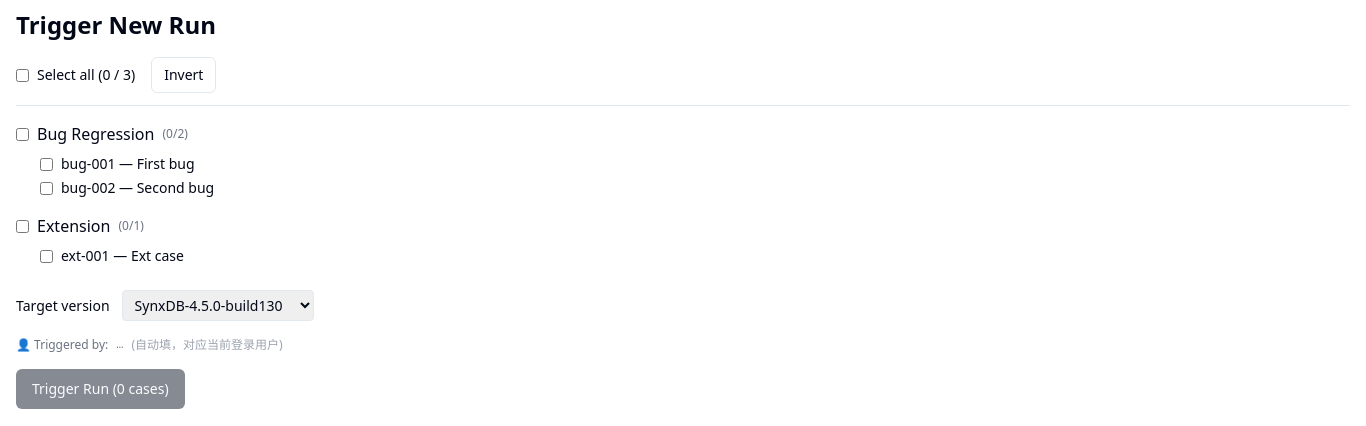
Test: RunNewPage › select-all-global selects all cases
Check: the checkbox with test id "case-checkbox-bug-001" is shown, box x1=40 y1=158 x2=53 y2=170
Click the checkbox with test id "select-all-global" at (22,75), box x1=16 y1=68 x2=29 y2=82
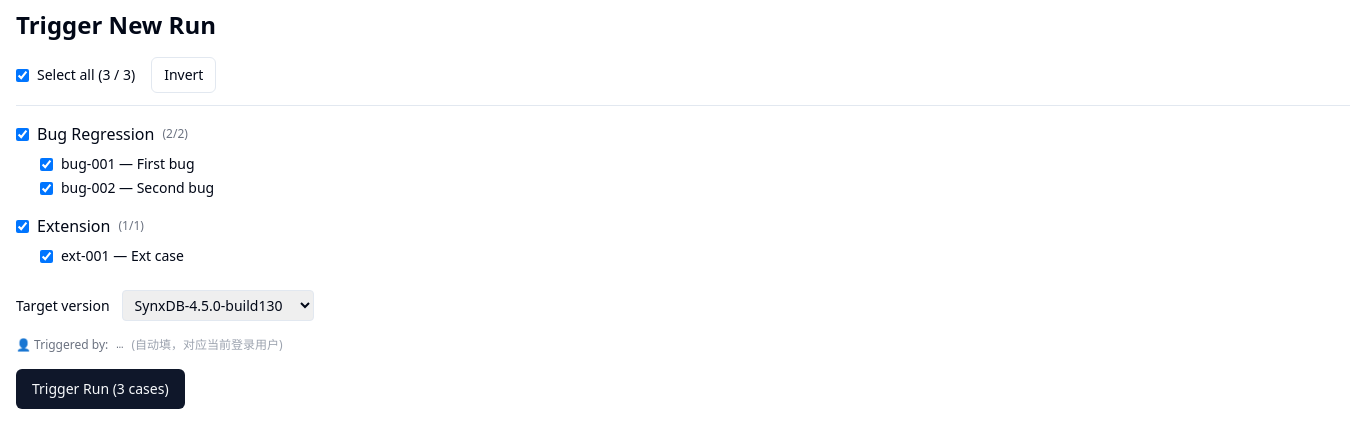
Check: the checkbox with test id "case-checkbox-bug-001" is checked, box x1=40 y1=158 x2=53 y2=170
Check: the checkbox with test id "case-checkbox-bug-002" is checked, box x1=40 y1=182 x2=53 y2=194
Check: the checkbox with test id "case-checkbox-ext-001" is checked, box x1=40 y1=250 x2=53 y2=262
